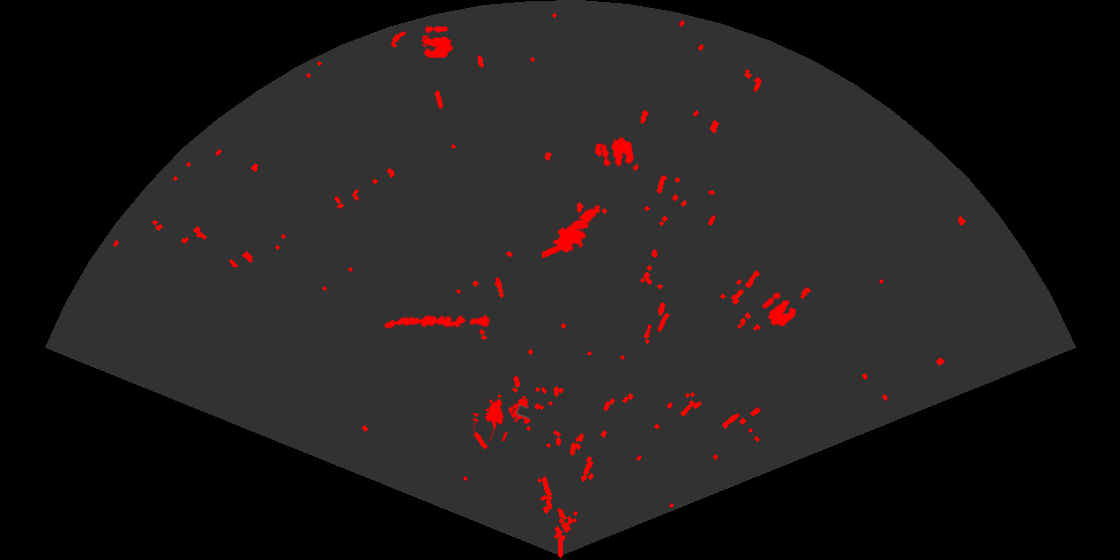ball: (761, 291, 798, 328), (421, 25, 454, 59), (600, 136, 635, 168)
cage: (473, 392, 532, 441)
chain: (382, 313, 490, 330)
frogman: (542, 203, 602, 261)
